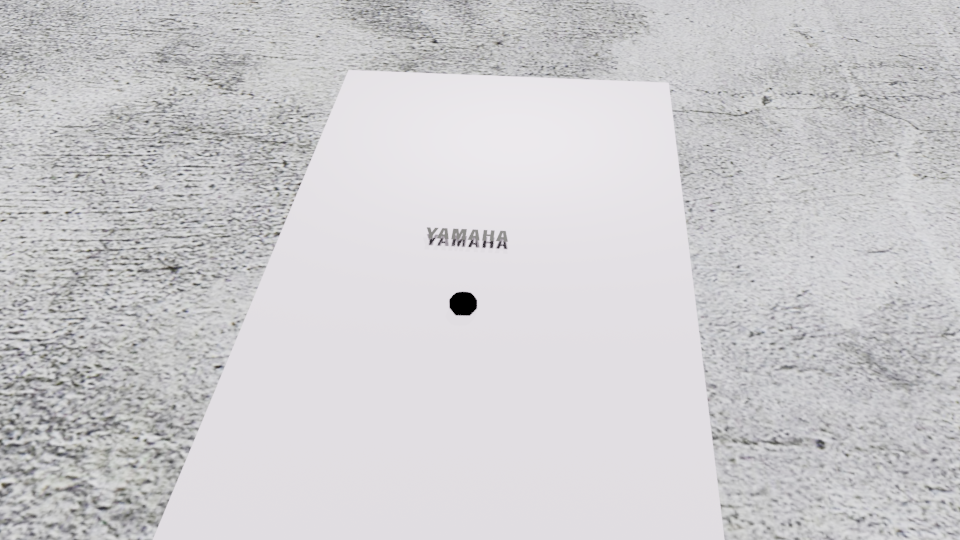yamaha_letters: (426, 226, 508, 242)
